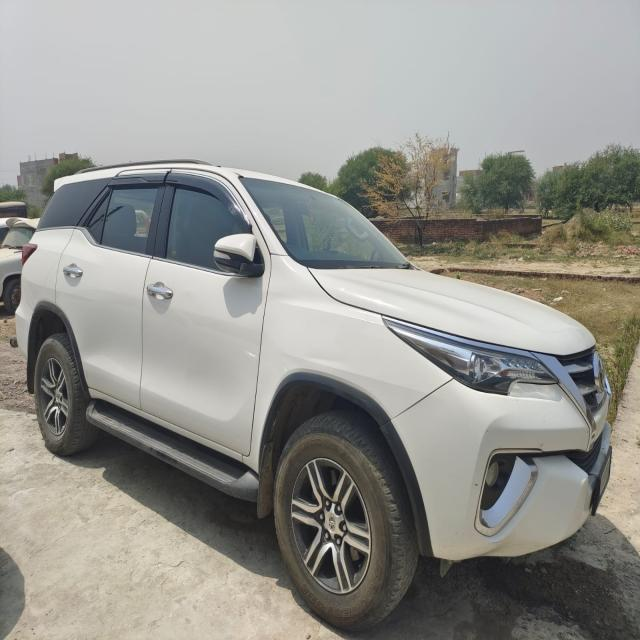light_vehicle: (9, 160, 614, 634)
